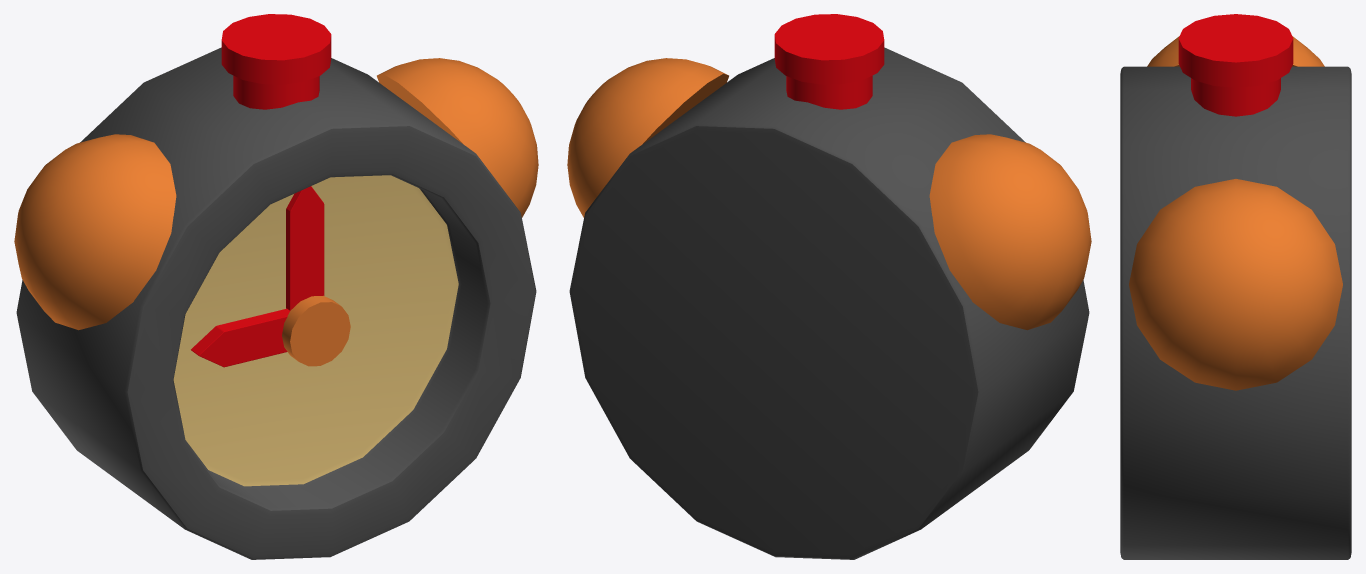
File: Alarm 1.fbx
3 views of the same model, side by side, from view 1: azimuth 30°, elevation 25°; view 2: azimuth 150°, elevation 25°; view 3: azimuth 270°, elevation 25° (orthographic). The views are drawn at different scales.
Parts seen in each view (by area): view 1: Cylinder, Sphere, Cylinder.001, Cube.001, Cylinder.002, Cube; view 2: Cylinder, Sphere, Cylinder.001; view 3: Cylinder, Sphere, Cylinder.001.
Boxes of the visible parts, <box> form: Cylinder: <box>16,47,536,559</box>; Sphere: <box>14,58,538,330</box>; Cylinder.001: <box>221,14,331,109</box>; Cube.001: <box>286,186,324,310</box>; Cylinder.002: <box>282,295,350,366</box>; Cube: <box>191,308,289,367</box>; Cylinder: <box>569,47,1089,559</box>; Sphere: <box>567,58,1091,330</box>; Cylinder.001: <box>774,14,884,109</box>; Cylinder: <box>1120,66,1351,559</box>; Sphere: <box>1129,36,1342,390</box>; Cylinder.001: <box>1178,14,1293,116</box>.
Size of the model in its own units: 241 by 93.69 by 223.
